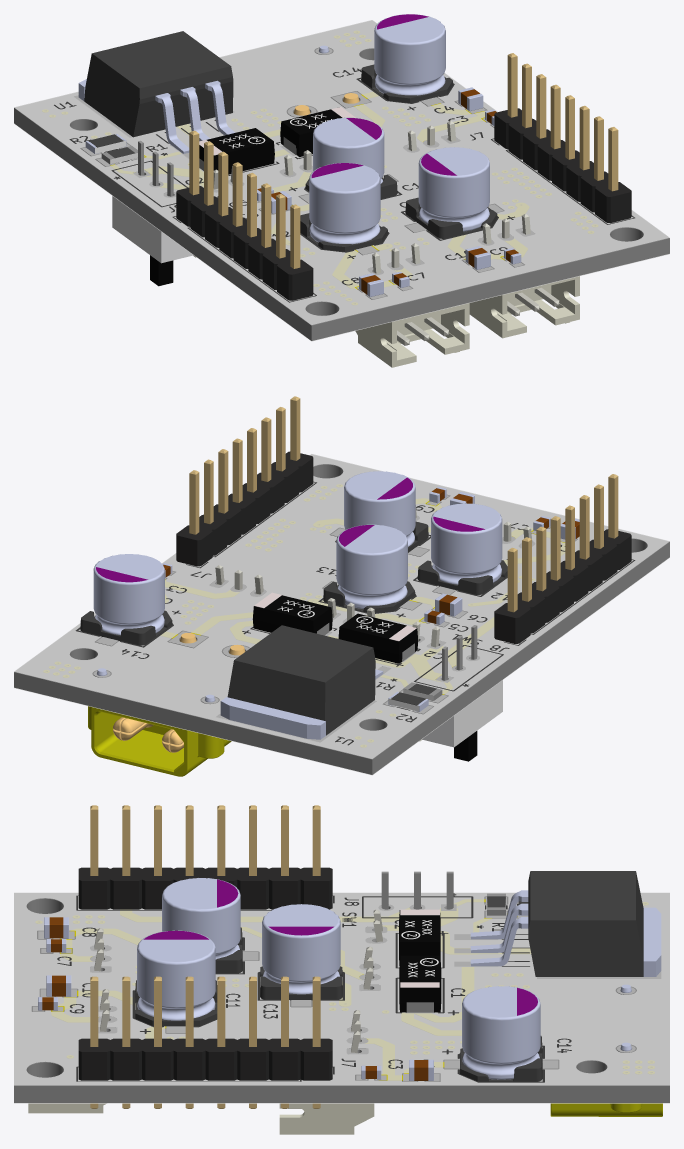
The model's file is fyp_DARTv3.glb.
3 renders of one model, top to bottom at view 1: azimuth 30°, elevation 25°; view 2: azimuth 150°, elevation 25°; view 3: azimuth 270°, elevation 25°, orthographic. The views are drawn at different scales.
Visible parts, largest first — view 1: =>[0:1:1:19], =>[0:1:1:18], U1, J8, J7, C11, C14, C12, J6, J4, C13, =>[0:1:1:14] (+6 smaller); view 2: =>[0:1:1:19], =>[0:1:1:18], U1, J8, J7, C14, C12, J1, C13, C11, =>[0:1:1:14], SW1 (+4 smaller); view 3: =>[0:1:1:19], =>[0:1:1:18], J7, U1, J8, C14, C13, C11, C12, =>[0:1:1:14], =>[0:1:1:15], =>[0:1:1:17] (+9 smaller).
Boxes of the visible parts, x1=… form: =>[0:1:1:19]: x1=14, y1=21, x2=669, y2=340; =>[0:1:1:18]: x1=14, y1=20, x2=669, y2=341; U1: x1=78, y1=31, x2=235, y2=153; J8: x1=176, y1=130, x2=313, y2=300; J7: x1=494, y1=53, x2=631, y2=223; C11: x1=405, y1=147, x2=497, y2=238; C14: x1=361, y1=14, x2=453, y2=102; C12: x1=300, y1=163, x2=387, y2=251; J6: x1=355, y1=243, x2=469, y2=367; J4: x1=469, y1=213, x2=579, y2=338; C13: x1=305, y1=117, x2=397, y2=198; =>[0:1:1:14]: x1=42, y1=31, x2=597, y2=304; =>[0:1:1:19]: x1=14, y1=455, x2=669, y2=774; =>[0:1:1:18]: x1=14, y1=454, x2=669, y2=775; U1: x1=220, y1=625, x2=383, y2=739; J8: x1=494, y1=474, x2=631, y2=643; J7: x1=176, y1=396, x2=313, y2=566; C14: x1=80, y1=554, x2=172, y2=645; C12: x1=417, y1=503, x2=507, y2=594; J1: x1=88, y1=633, x2=245, y2=776; C13: x1=323, y1=524, x2=415, y2=613; C11: x1=337, y1=471, x2=428, y2=552; =>[0:1:1:14]: x1=44, y1=485, x2=564, y2=746; SW1: x1=421, y1=625, x2=502, y2=761; =>[0:1:1:19]: x1=14, y1=893, x2=669, y2=1102; =>[0:1:1:18]: x1=14, y1=892, x2=669, y2=1103; J7: x1=78, y1=976, x2=332, y2=1108; U1: x1=470, y1=871, x2=661, y2=976; J8: x1=78, y1=805, x2=332, y2=909; C14: x1=460, y1=986, x2=542, y2=1081; C13: x1=260, y1=904, x2=342, y2=1000; C11: x1=135, y1=930, x2=217, y2=1026; C12: x1=162, y1=878, x2=242, y2=973; =>[0:1:1:14]: x1=36, y1=899, x2=654, y2=1080; =>[0:1:1:15]: x1=33, y1=897, x2=661, y2=1081; =>[0:1:1:17]: x1=57, y1=893, x2=571, y2=1082.
Size of the model in its own units: 0.0365 by 0.0176 by 0.0525.
